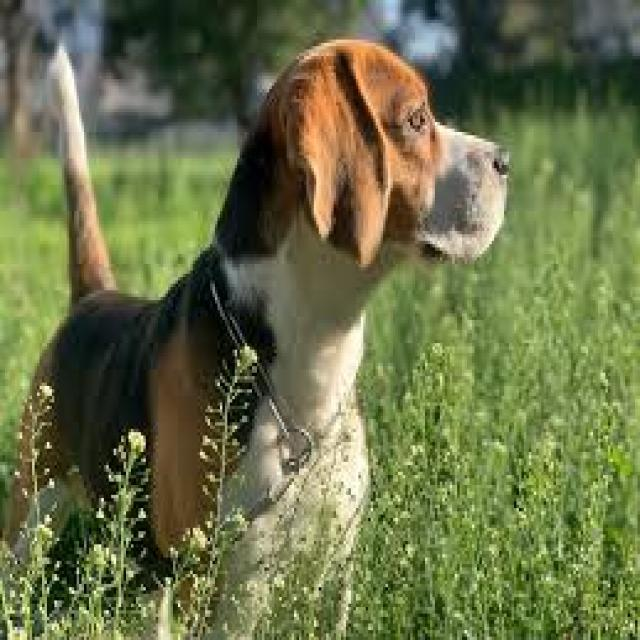Dog: (3, 29, 515, 568)
